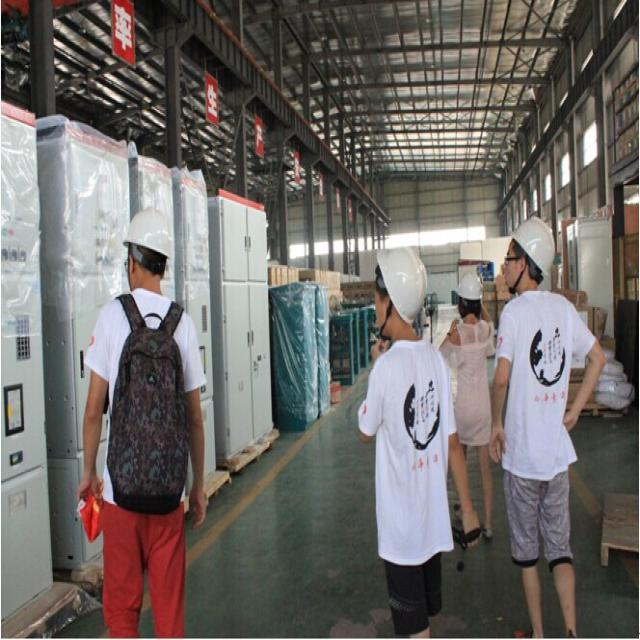helmet: (371, 244, 427, 338), (120, 206, 172, 290), (501, 214, 553, 294), (454, 269, 483, 317)
